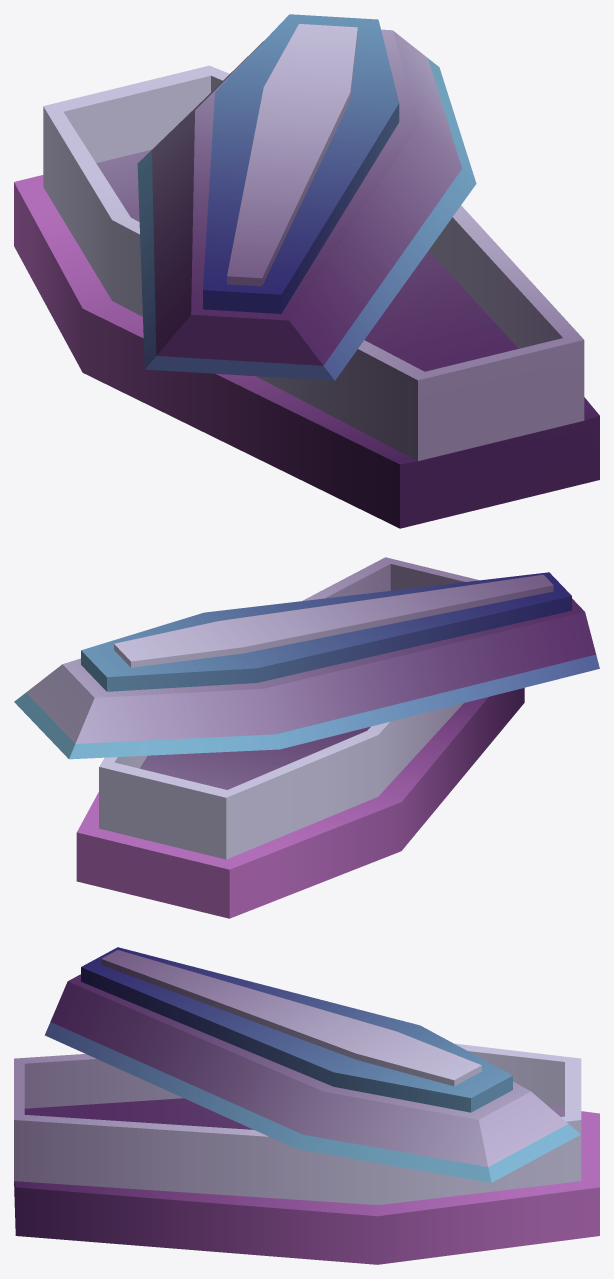
Rendered from Tomb 02.fbx.
3 views of the same model, one above another, from view 1: azimuth 30°, elevation 25°; view 2: azimuth 150°, elevation 25°; view 3: azimuth 270°, elevation 25° (orthographic). The views are drawn at different scales.
Visible parts, largest first — view 1: Tomb 02.002, Tomb 02 Cover.002; view 2: Tomb 02 Cover.002, Tomb 02.002; view 3: Tomb 02.002, Tomb 02 Cover.002.
Part boxes in pixels (<box>): Tomb 02.002: <box>14,65,599,528</box>; Tomb 02 Cover.002: <box>137,14,476,380</box>; Tomb 02 Cover.002: <box>14,572,599,759</box>; Tomb 02.002: <box>76,557,524,918</box>; Tomb 02.002: <box>14,1043,599,1264</box>; Tomb 02 Cover.002: <box>45,947,580,1182</box>.
Bounding box in the file's own units: 205 × 84.65 × 259.
